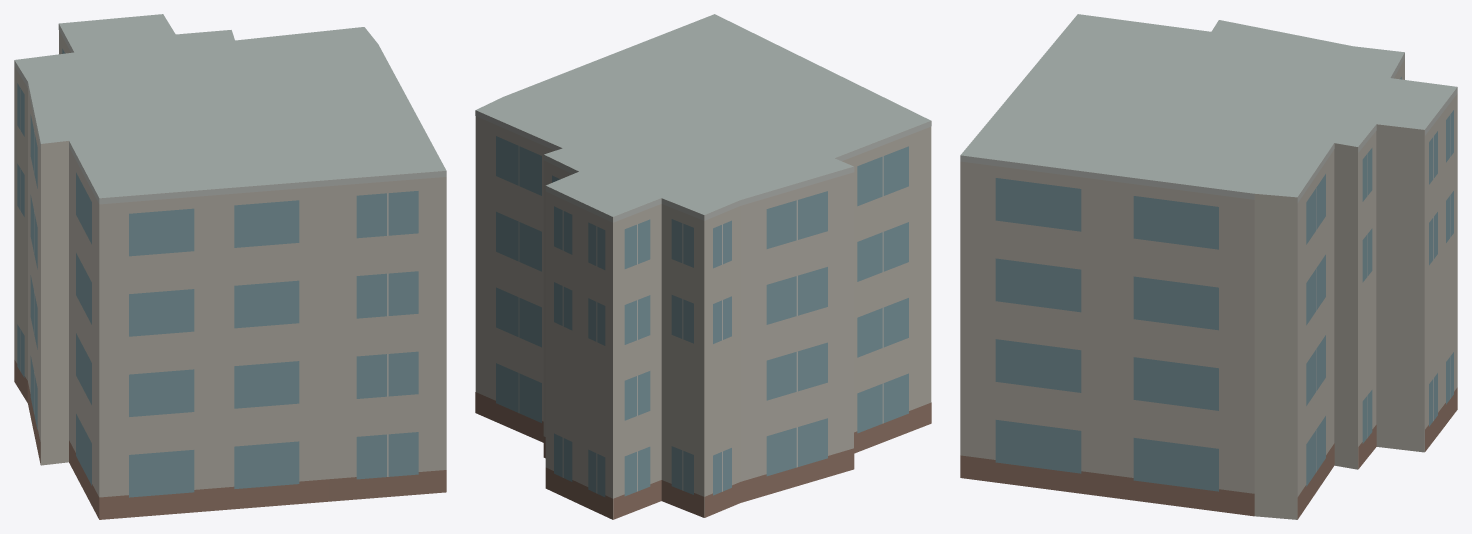
The model's file is survey-upis-32511306.glb.
3 views of the same model, side by side, from view 1: azimuth 30°, elevation 25°; view 2: azimuth 150°, elevation 25°; view 3: azimuth 270°, elevation 25° (orthographic). The views are drawn at different scales.
Visible parts, largest first — view 1: survey-upis-32511306.tmp; view 2: survey-upis-32511306.tmp; view 3: survey-upis-32511306.tmp.
Boxes of the visible parts, x1=… form: survey-upis-32511306.tmp: x1=14, y1=14, x2=446, y2=519; survey-upis-32511306.tmp: x1=475, y1=14, x2=931, y2=519; survey-upis-32511306.tmp: x1=960, y1=14, x2=1457, y2=519.
Bounding box in the file's own units: 15.61 × 12.8 × 17.9.
